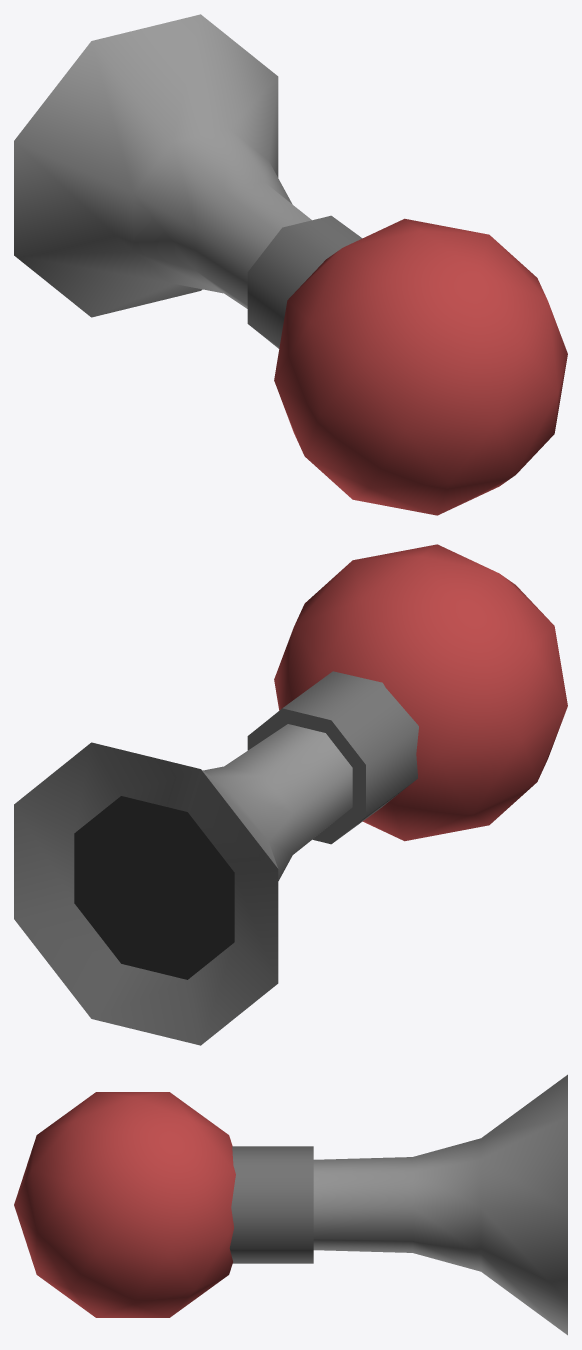
File: BikeHorn.fbx
The picture shows the model from 3 angles, top to bottom: view 1: azimuth 30°, elevation 25°; view 2: azimuth 150°, elevation 25°; view 3: azimuth 270°, elevation 25°; orthographic projection. The views are drawn at different scales.
Parts seen in each view (by area): view 1: BikeHorn; view 2: BikeHorn; view 3: BikeHorn.
Part boxes in pixels (x1=…): BikeHorn: x1=14, y1=14, x2=567, y2=515; BikeHorn: x1=14, y1=544, x2=567, y2=1045; BikeHorn: x1=14, y1=1074, x2=567, y2=1335.
Bounding box in the file's own units: 0.1312 × 0.1312 × 0.301.
